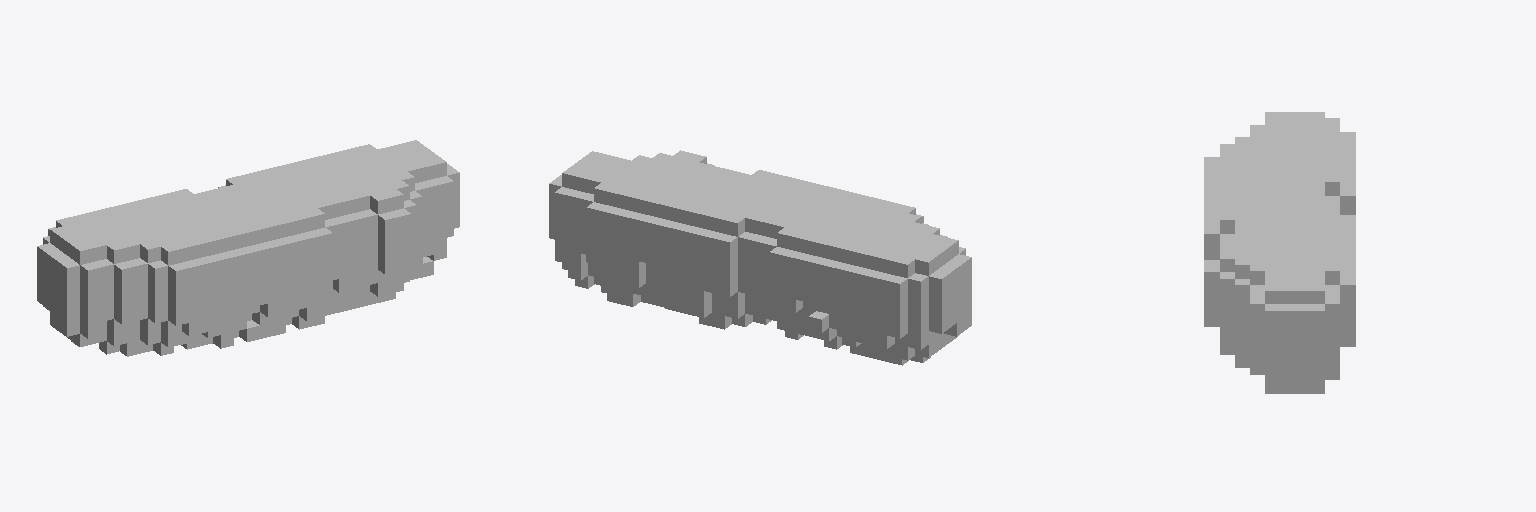
File: ground15_2.obj
3 views of the same model, side by side, from view 1: azimuth 30°, elevation 25°; view 2: azimuth 150°, elevation 25°; view 3: azimuth 270°, elevation 25° (orthographic).
Parts seen in each view (by area): view 1: ObjObject.015; view 2: ObjObject.015; view 3: ObjObject.015.
Boxes of the visible parts, x1=… form: ObjObject.015: x1=37, y1=140, x2=459, y2=356; ObjObject.015: x1=549, y1=150, x2=971, y2=365; ObjObject.015: x1=1204, y1=112, x2=1355, y2=393.
Size of the model in its own units: 3 by 0.8 by 1.